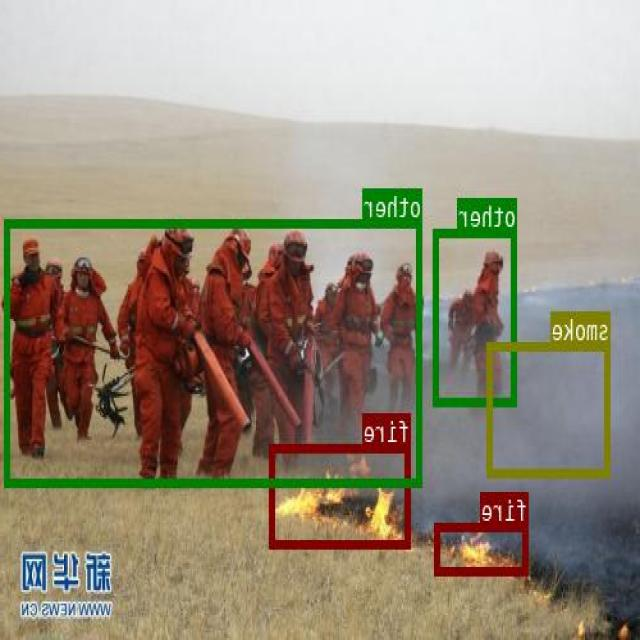fire: (270, 443, 412, 547), (436, 523, 530, 573)
other: (5, 218, 423, 485), (434, 227, 518, 404)
smoke: (489, 342, 611, 476)
